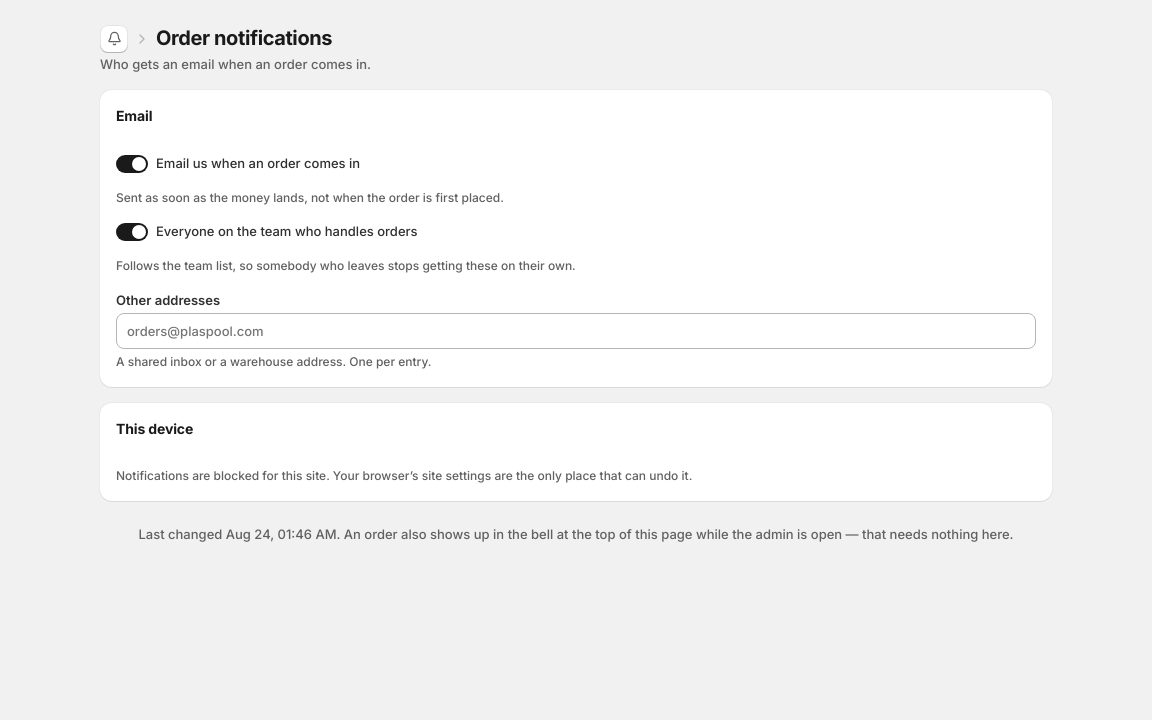
the order notifications screen › refuses exactly what the server refuses, beside the box rather than as a 400
Type "warehouse" into the field named "Other addresses" at (576, 332), box [125,320,1027,344]
Then press Enter
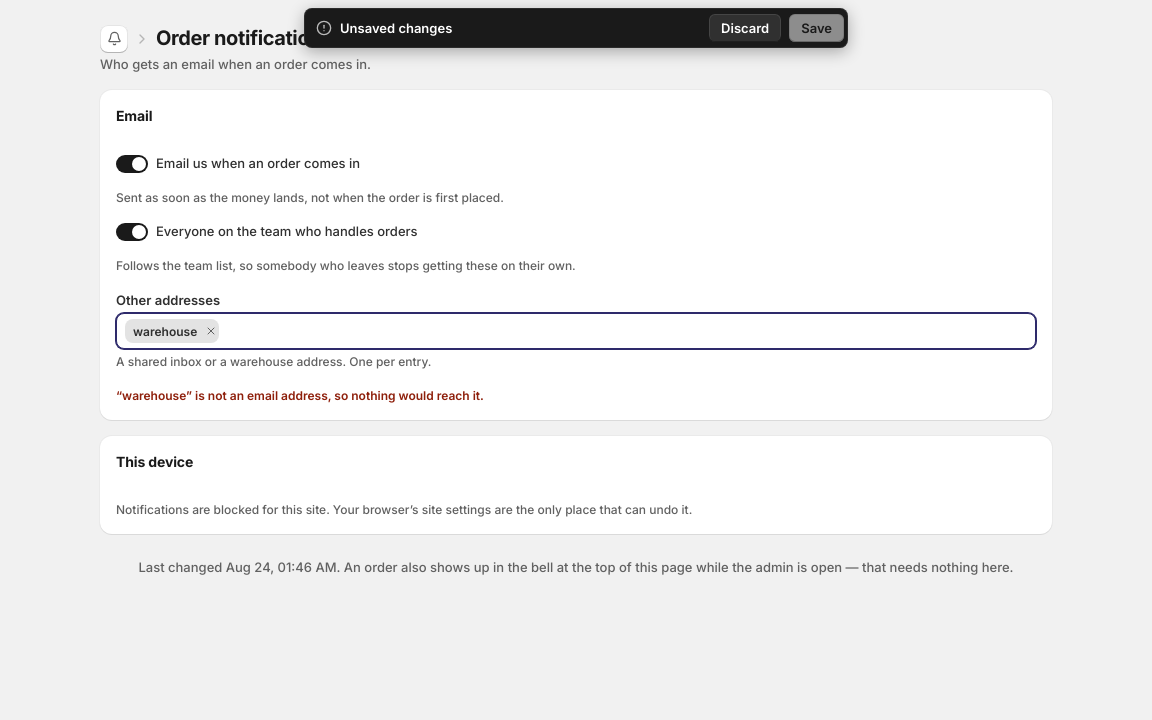
Check: the text "“warehouse” is not an email address, so nothing would reach it." is shown, box [116,388,484,403]
Check: the button "Save" is disabled, box [789,14,844,42]
Note: And the rule is no STRICTER than the server's: a real address clears it.
Click the button named "Remove tag warehouse" at (208, 332), box [199,322,217,340]
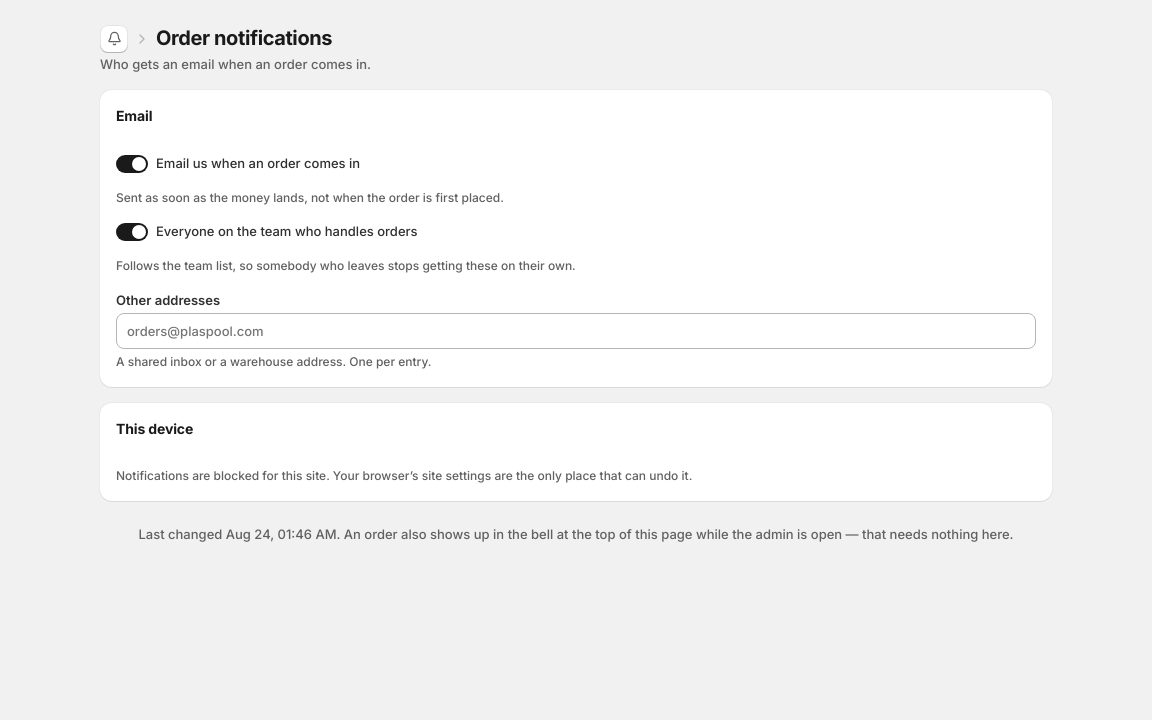
Type "warehouse@plaspool.com" into the field named "Other addresses" at (576, 332), box [125,320,1027,344]
Then press Enter
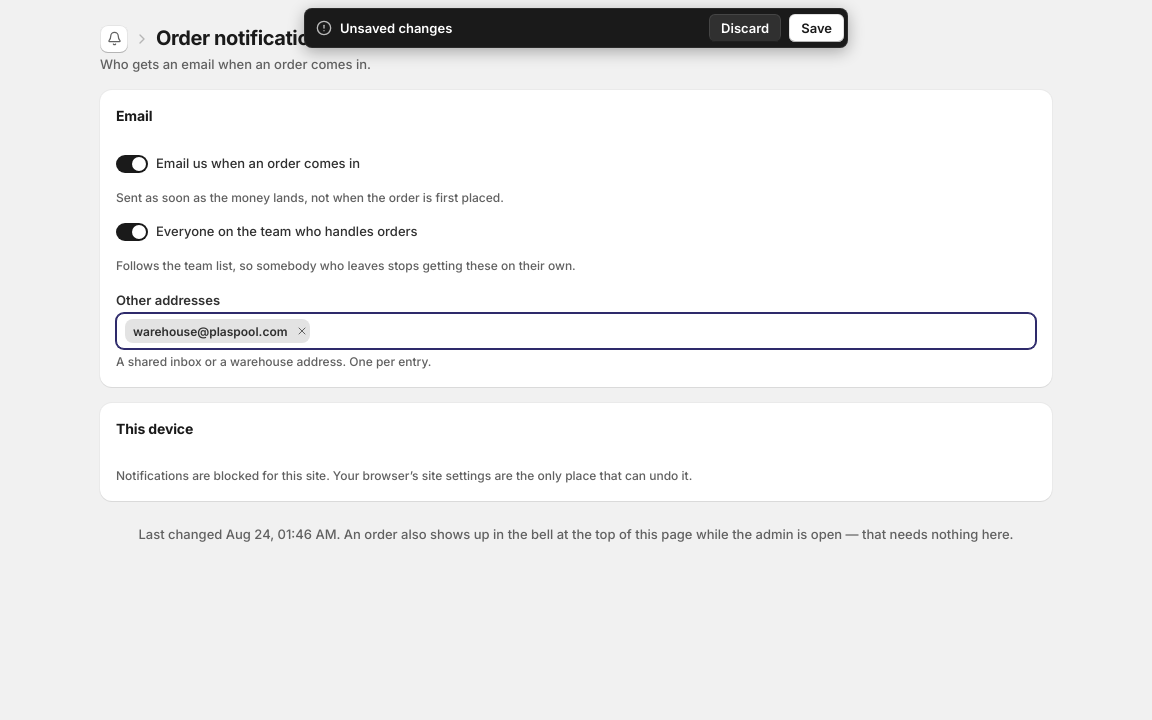
Check: the button "Save" is enabled, box [789,14,844,42]
